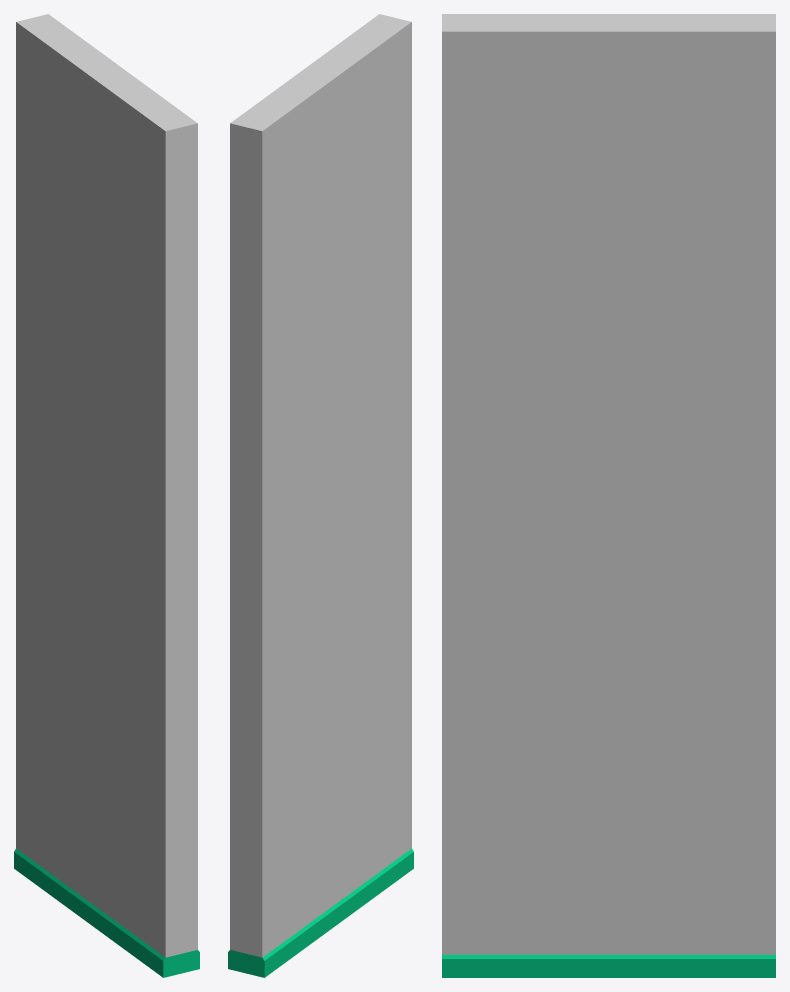
File: WallElement_base.fbx
3 views of the same model, side by side, from view 1: azimuth 30°, elevation 25°; view 2: azimuth 150°, elevation 25°; view 3: azimuth 270°, elevation 25° (orthographic). The views are drawn at different scales.
Visible parts, largest first — view 1: WallElement_base; view 2: WallElement_base; view 3: WallElement_base.
Part boxes in pixels (x1,y1,x2,y2): WallElement_base: (14, 14, 199, 977); WallElement_base: (228, 14, 413, 977); WallElement_base: (442, 14, 775, 977).
Size of the model in its own units: 22.59 by 500 by 160.
